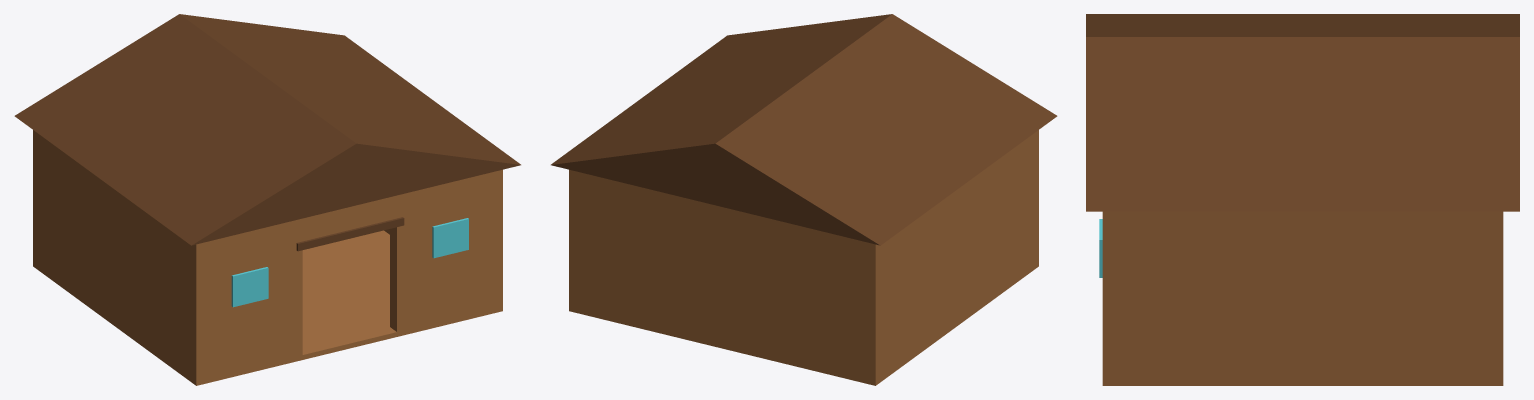
File: mdl_casa_z1.fbx
The picture shows the model from 3 angles, left to right: view 1: azimuth 30°, elevation 25°; view 2: azimuth 150°, elevation 25°; view 3: azimuth 270°, elevation 25°; orthographic projection. The views are drawn at different scales.
Parts seen in each view (by area): view 1: mdl_casa_z1; view 2: mdl_casa_z1; view 3: mdl_casa_z1.
Part boxes in pixels (x1,y1,x2,y2): mdl_casa_z1: (14,14,520,385); mdl_casa_z1: (551,14,1057,385); mdl_casa_z1: (1086,14,1519,385).
Bounding box in the file's own units: 2800 × 1700 × 2600.
